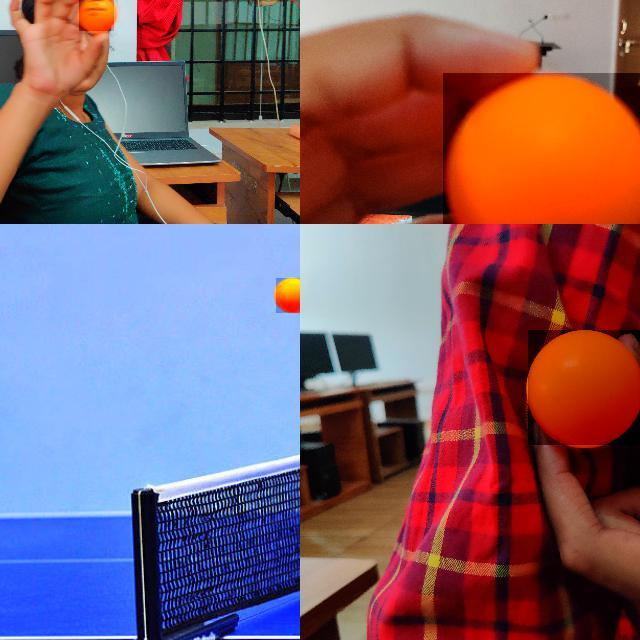ping-pong-ball: (442, 73, 639, 223), (527, 329, 639, 447), (78, 0, 116, 33), (276, 278, 299, 314)
